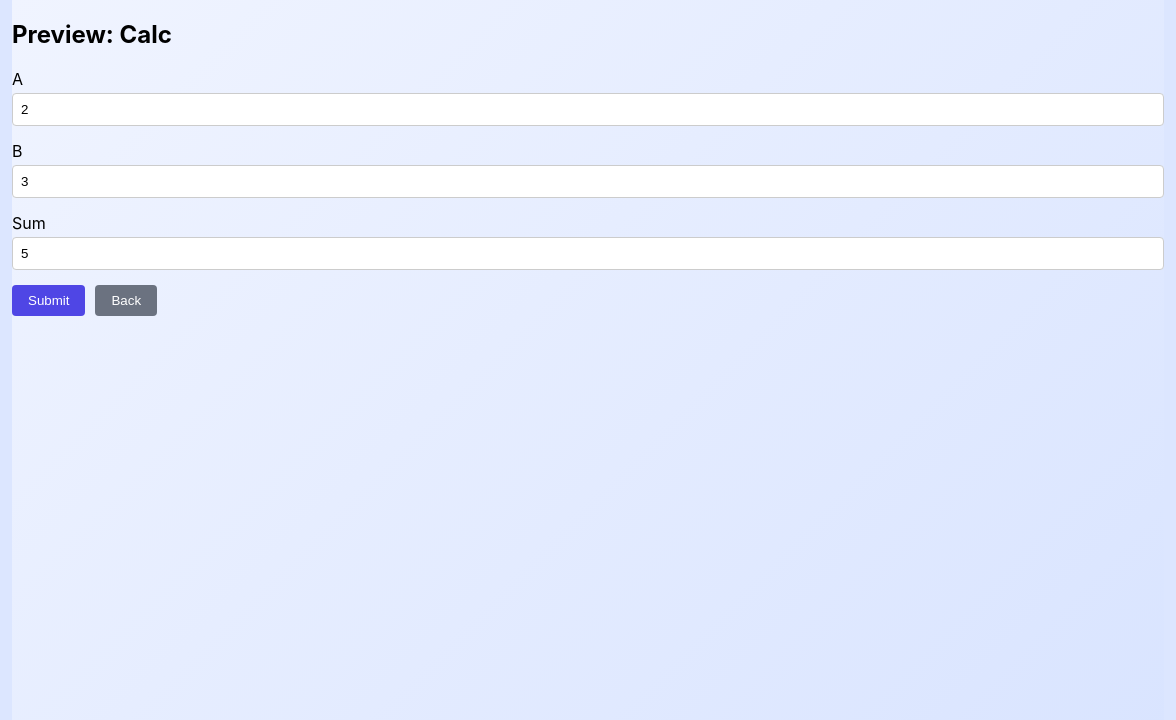
Scenario: PreviewForm derived fields › calculates derived field and keeps it read-only
Expected: the number field labelled "Sum" holds "5", top-left (12, 237), bottom-right (1164, 270)
Step 1. Replace the text in the number field labelled "A" with "4" → [588, 109], box top-left (12, 93), bottom-right (1164, 126)
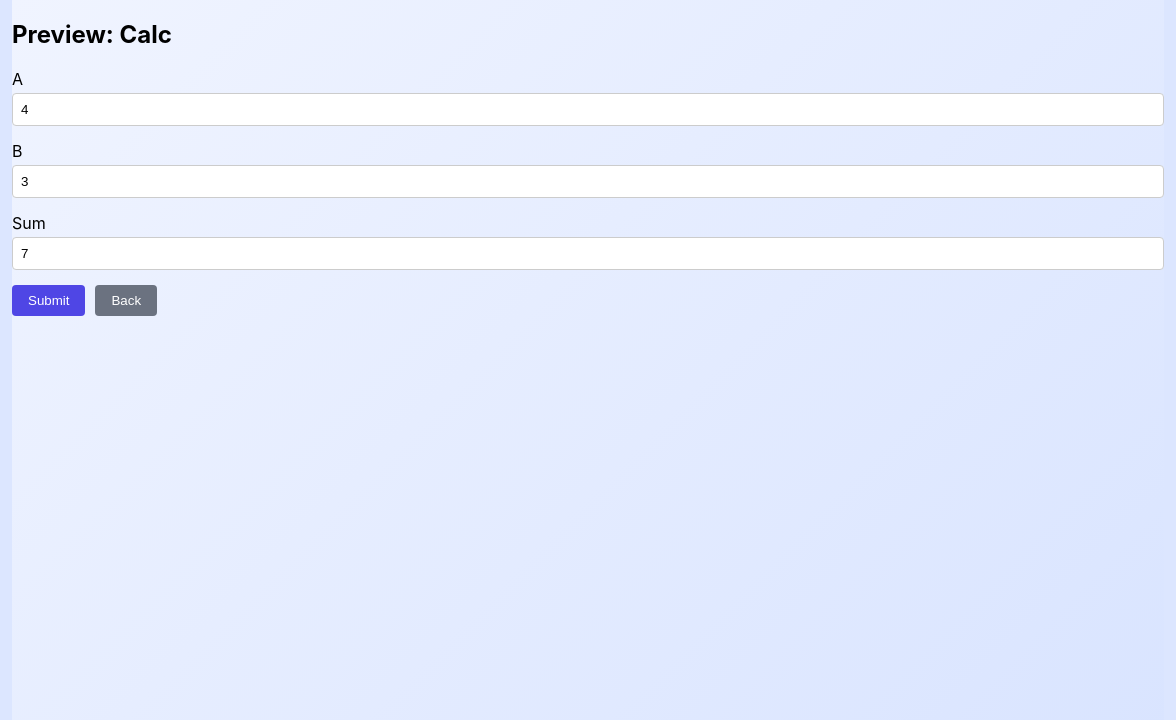
Expected: the number field labelled "Sum" holds "7", top-left (12, 237), bottom-right (1164, 270)
